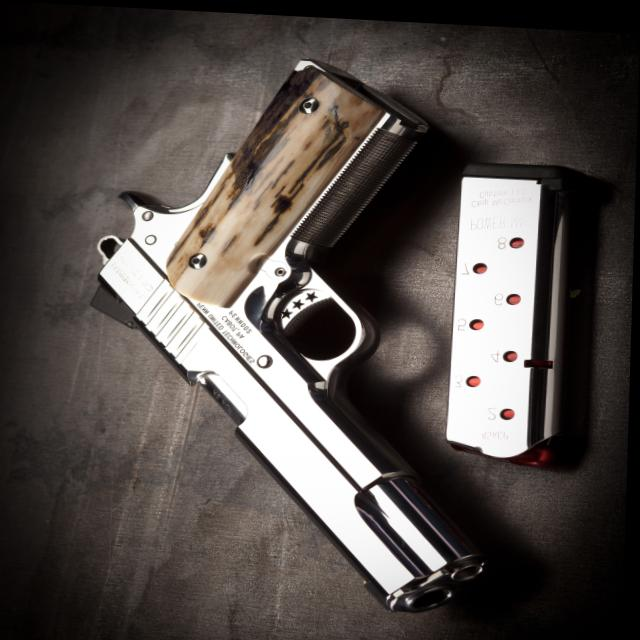handgun: (83, 45, 510, 612)
